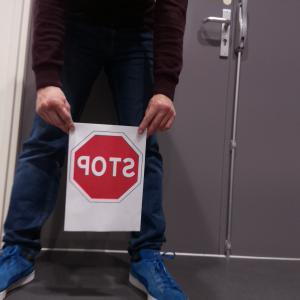stop: (71, 130, 142, 203)
